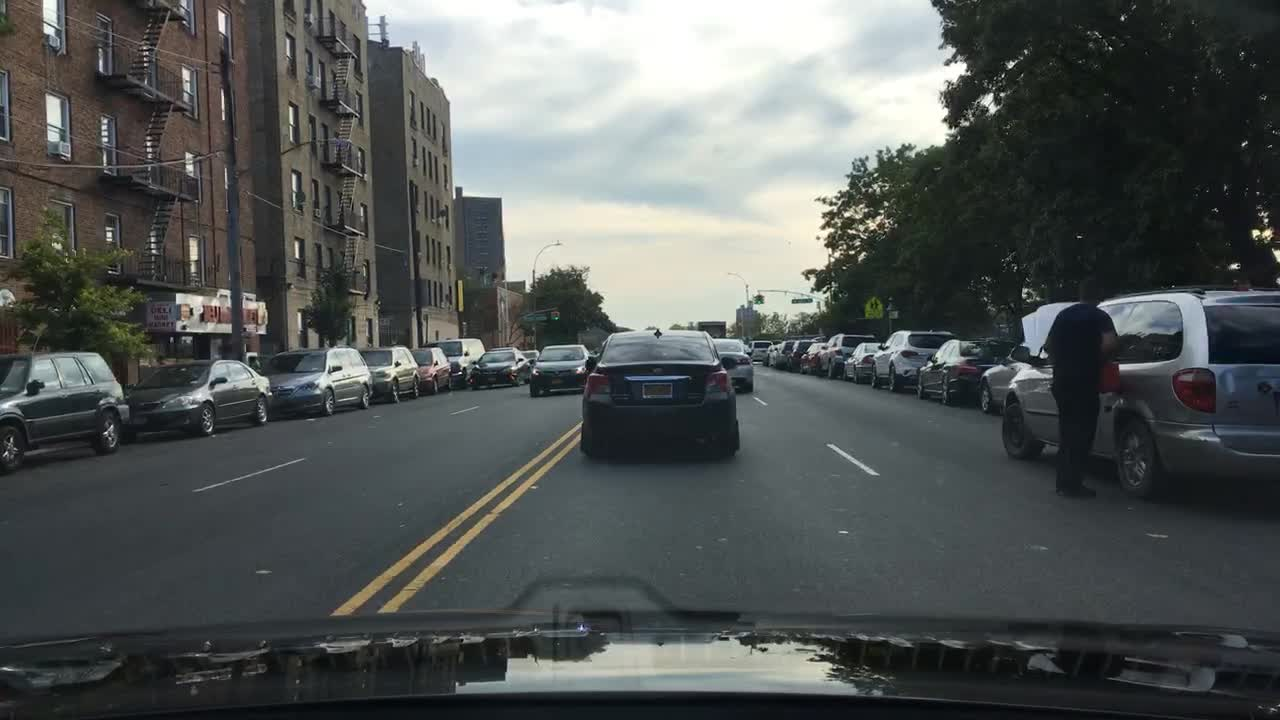car: (995, 280, 1278, 494), (580, 327, 740, 462), (1, 350, 130, 474), (125, 358, 273, 438), (258, 346, 374, 420), (914, 335, 1005, 406), (869, 327, 958, 389), (977, 339, 1032, 419), (353, 345, 421, 405), (526, 343, 592, 397), (425, 338, 483, 390), (464, 346, 532, 390), (816, 333, 873, 378), (712, 337, 756, 394), (406, 345, 452, 395), (842, 340, 887, 383), (797, 339, 828, 375), (784, 339, 816, 373), (746, 339, 773, 365), (777, 341, 795, 369), (764, 342, 784, 366), (519, 349, 540, 365)
person: (1045, 281, 1122, 500)
traffic light: (550, 311, 555, 321), (760, 296, 765, 305), (754, 295, 759, 304), (758, 295, 761, 306), (555, 312, 559, 320)
traffic sign: (863, 295, 882, 320), (523, 315, 547, 322), (791, 297, 813, 303), (888, 310, 898, 318)
truck: (697, 320, 726, 338)
